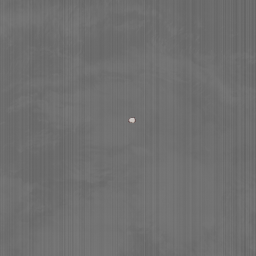Target: (128, 116, 137, 125)
